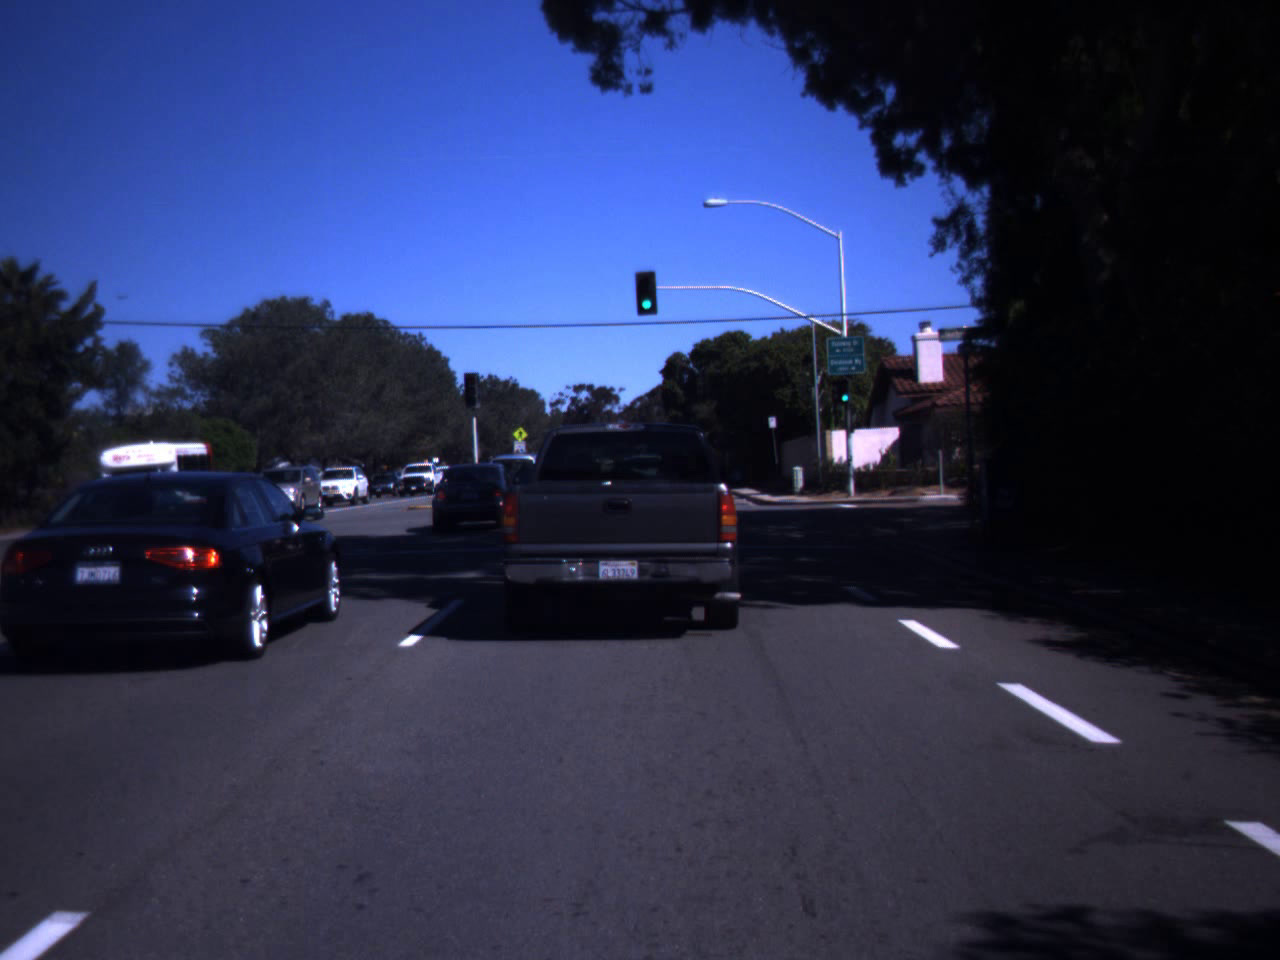go: (636, 276, 657, 311), (839, 382, 851, 402)
